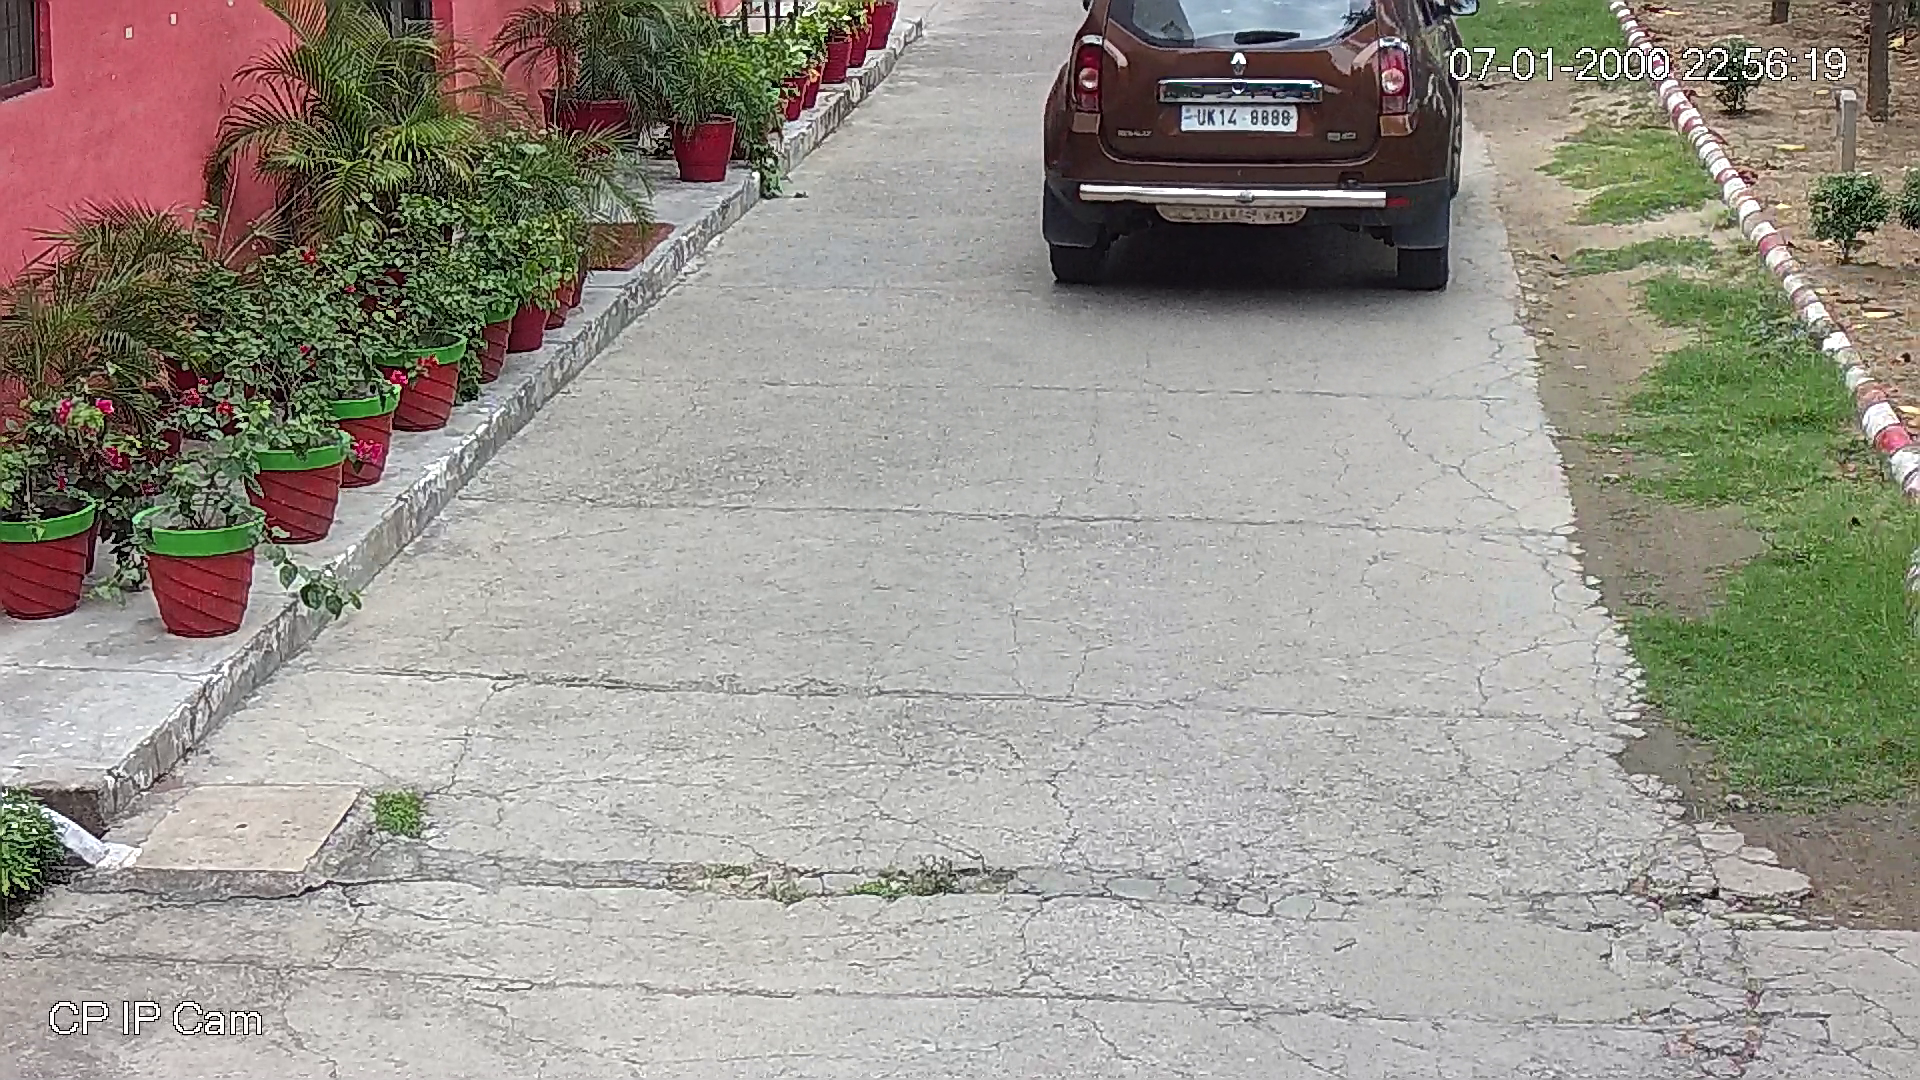plate: (1180, 100, 1303, 134)
